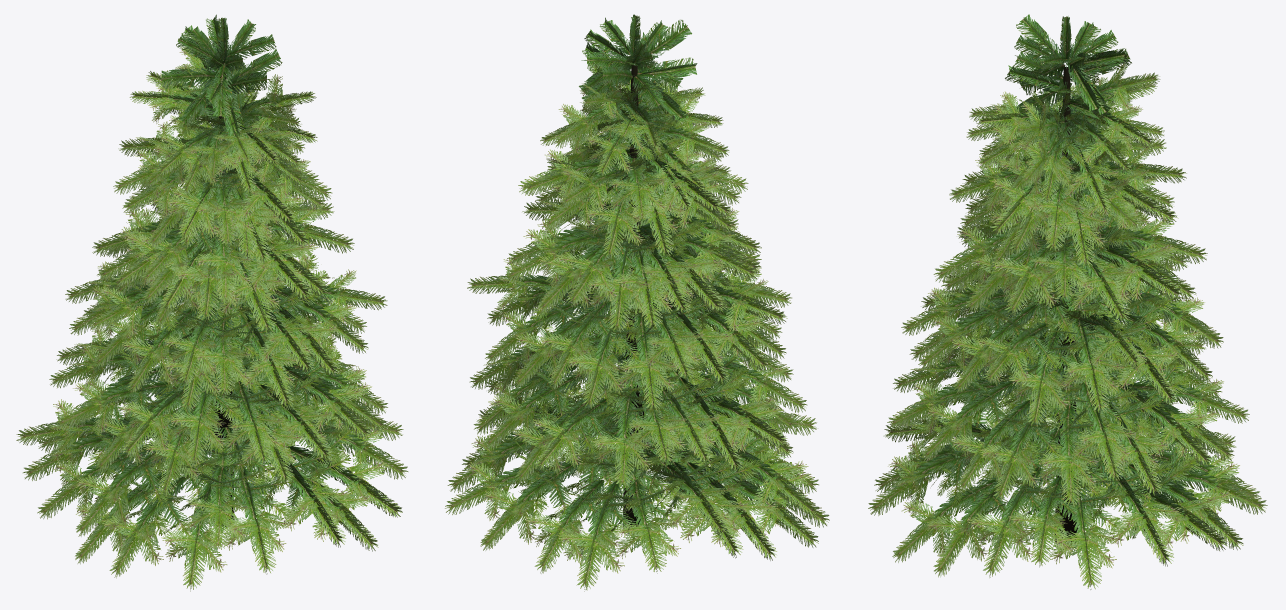
File: tree.obj
3 renders of one model, left to right at view 1: azimuth 30°, elevation 25°; view 2: azimuth 150°, elevation 25°; view 3: azimuth 270°, elevation 25°, orthographic. The views are drawn at different scales.
Bounding box in the file's own units: 1.31 × 1.87 × 1.32.
